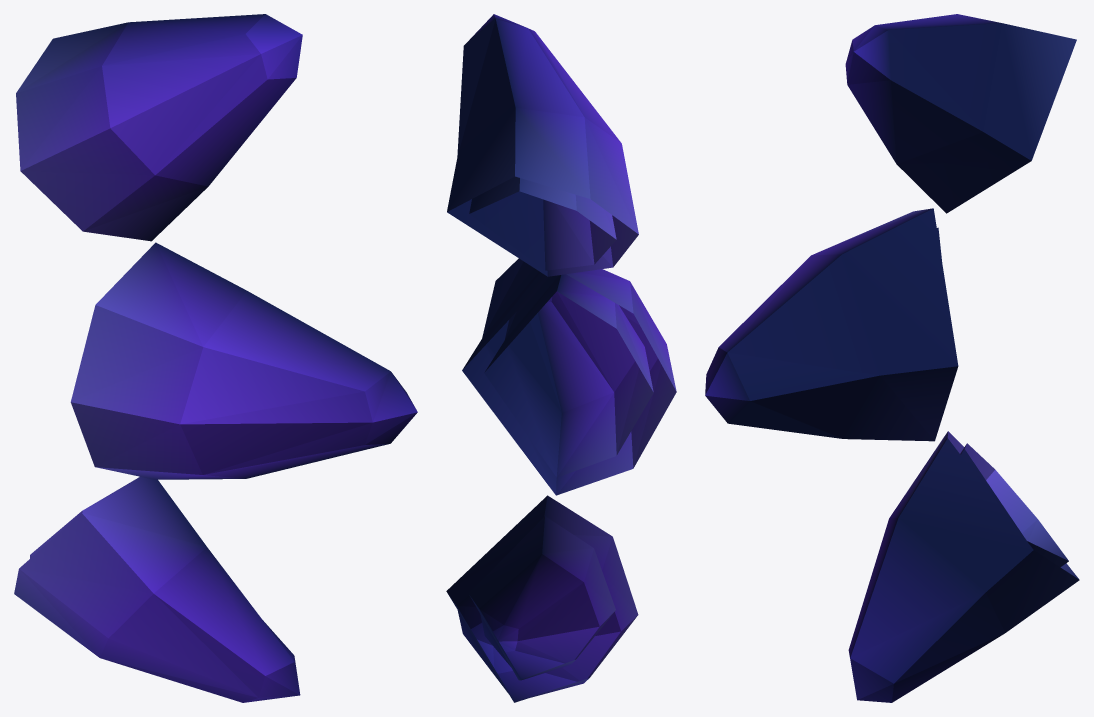
The model's file is pref_fx_Absol_spell01B_buff01_1_lv2.fbx.
The picture shows the model from 3 angles, left to right: view 1: azimuth 30°, elevation 25°; view 2: azimuth 150°, elevation 25°; view 3: azimuth 270°, elevation 25°; orthographic projection. The views are drawn at different scales.
Visible parts, largest first — view 1: 0359_nail_01_zx_B; view 2: 0359_nail_01_zx_B, 0359_nail_01_zx_A; view 3: 0359_nail_01_zx_B, 0359_nail_01_zx_A.
Boxes of the visible parts, <box> form: 0359_nail_01_zx_B: <box>14,14,417,702</box>; 0359_nail_01_zx_B: <box>446,14,676,702</box>; 0359_nail_01_zx_A: <box>469,176,653,680</box>; 0359_nail_01_zx_B: <box>705,14,1079,702</box>; 0359_nail_01_zx_A: <box>937,227,1068,567</box>.
Bounding box in the file's own units: 0.1159 × 0.2827 × 0.1426.
